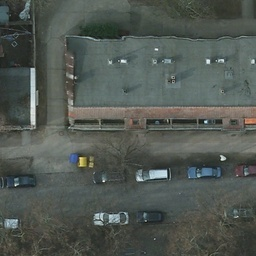car: (91, 167, 128, 185), (135, 169, 170, 185), (188, 166, 223, 181), (135, 210, 164, 225), (96, 212, 128, 225), (5, 175, 37, 185)
